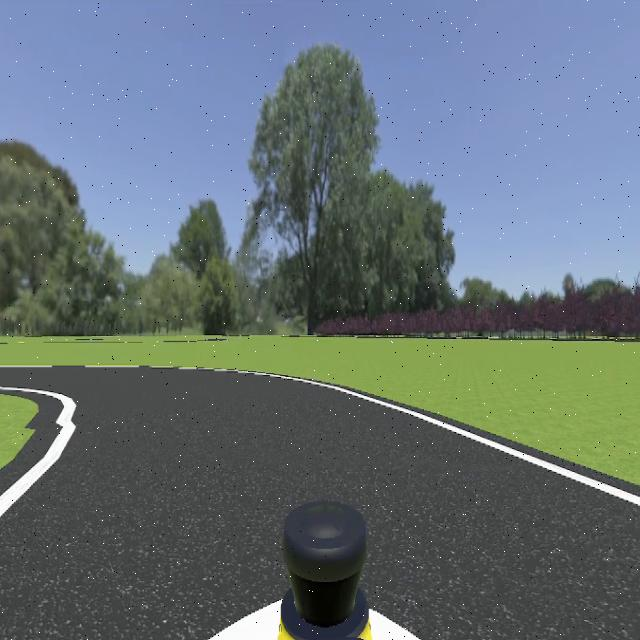road: (0, 368, 640, 640)
solid_line: (250, 372, 640, 508), (0, 387, 76, 519)
